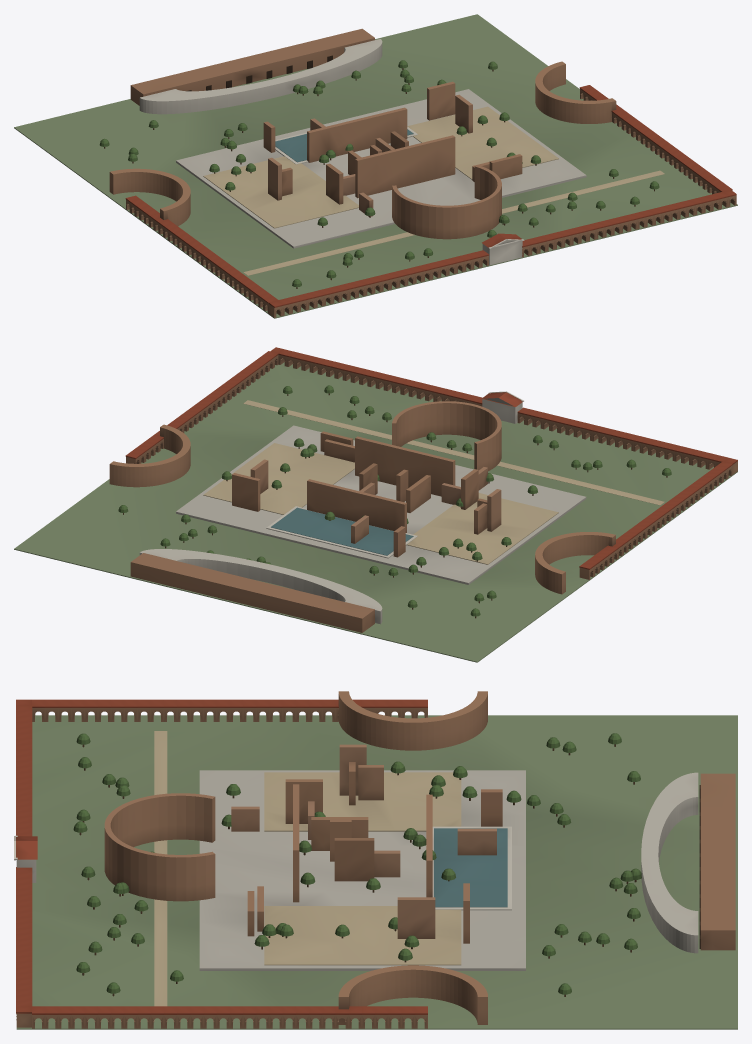
File: baths-of-caracalla-ruin.glb
3 views of the same model, one above another, from view 1: azimuth 30°, elevation 25°; view 2: azimuth 150°, elevation 25°; view 3: azimuth 270°, elevation 25° (orthographic). The views are drawn at different scales.
Parts seen in each view (by area): view 1: p0_precinct, p1_ruins, p2_vegetation; view 2: p0_precinct, p1_ruins, p2_vegetation; view 3: p0_precinct, p1_ruins, p2_vegetation.
Boxes of the visible parts, left/top/right/bottom form: p0_precinct: left=14, top=14, right=737, bottom=318; p1_ruins: left=99, top=39, right=659, bottom=288; p2_vegetation: left=209, top=112, right=540, bottom=248; p0_precinct: left=14, top=347, right=737, bottom=662; p1_ruins: left=118, top=385, right=671, bottom=624; p2_vegetation: left=222, top=391, right=537, bottom=567; p0_precinct: left=16, top=691, right=737, bottom=1029; p1_ruins: left=73, top=733, right=698, bottom=996; p2_vegetation: left=14, top=761, right=521, bottom=962.
Size of the model in its own units: 337 by 28 by 329.
